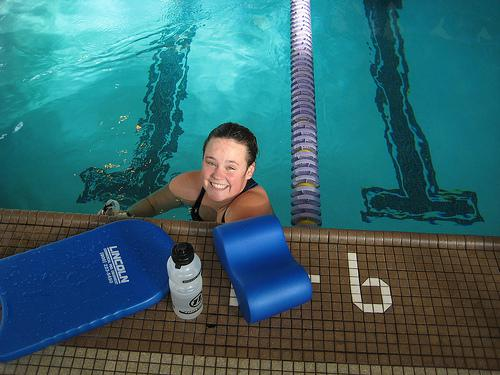swimmer: (96, 121, 274, 219)
